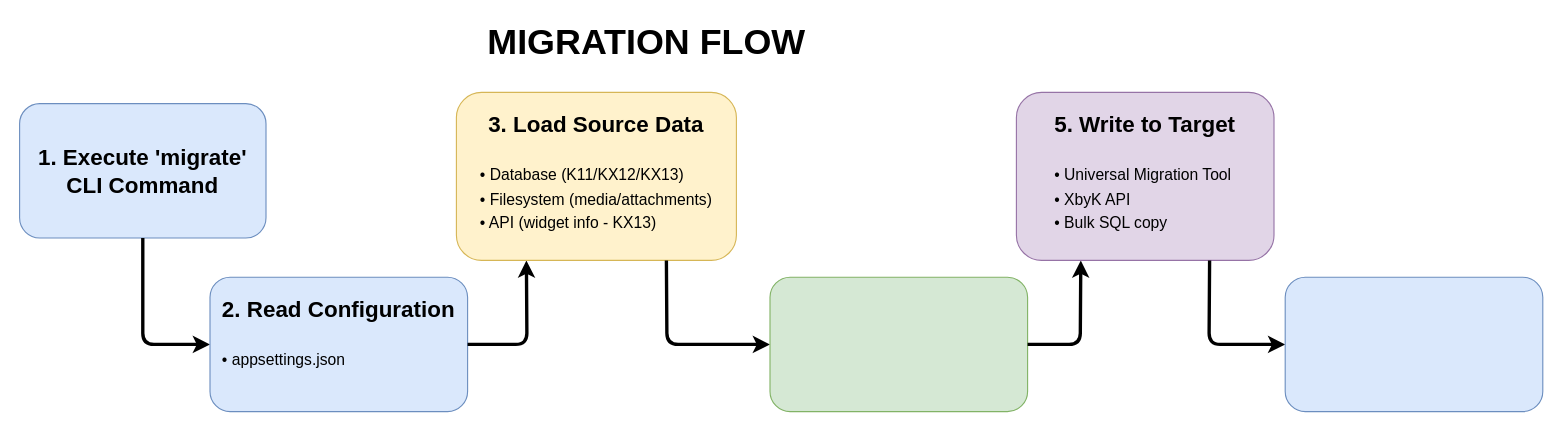
Some shapes in this 1562 by 431 pixel diagram are drawn without their labels. Each missing label, with the box of its shape:
4. Transform Data • Built-in mappers • Custom migrations: (769, 276, 1028, 412)
6. Generate Reports • Console output • Log files: (1284, 276, 1543, 412)
